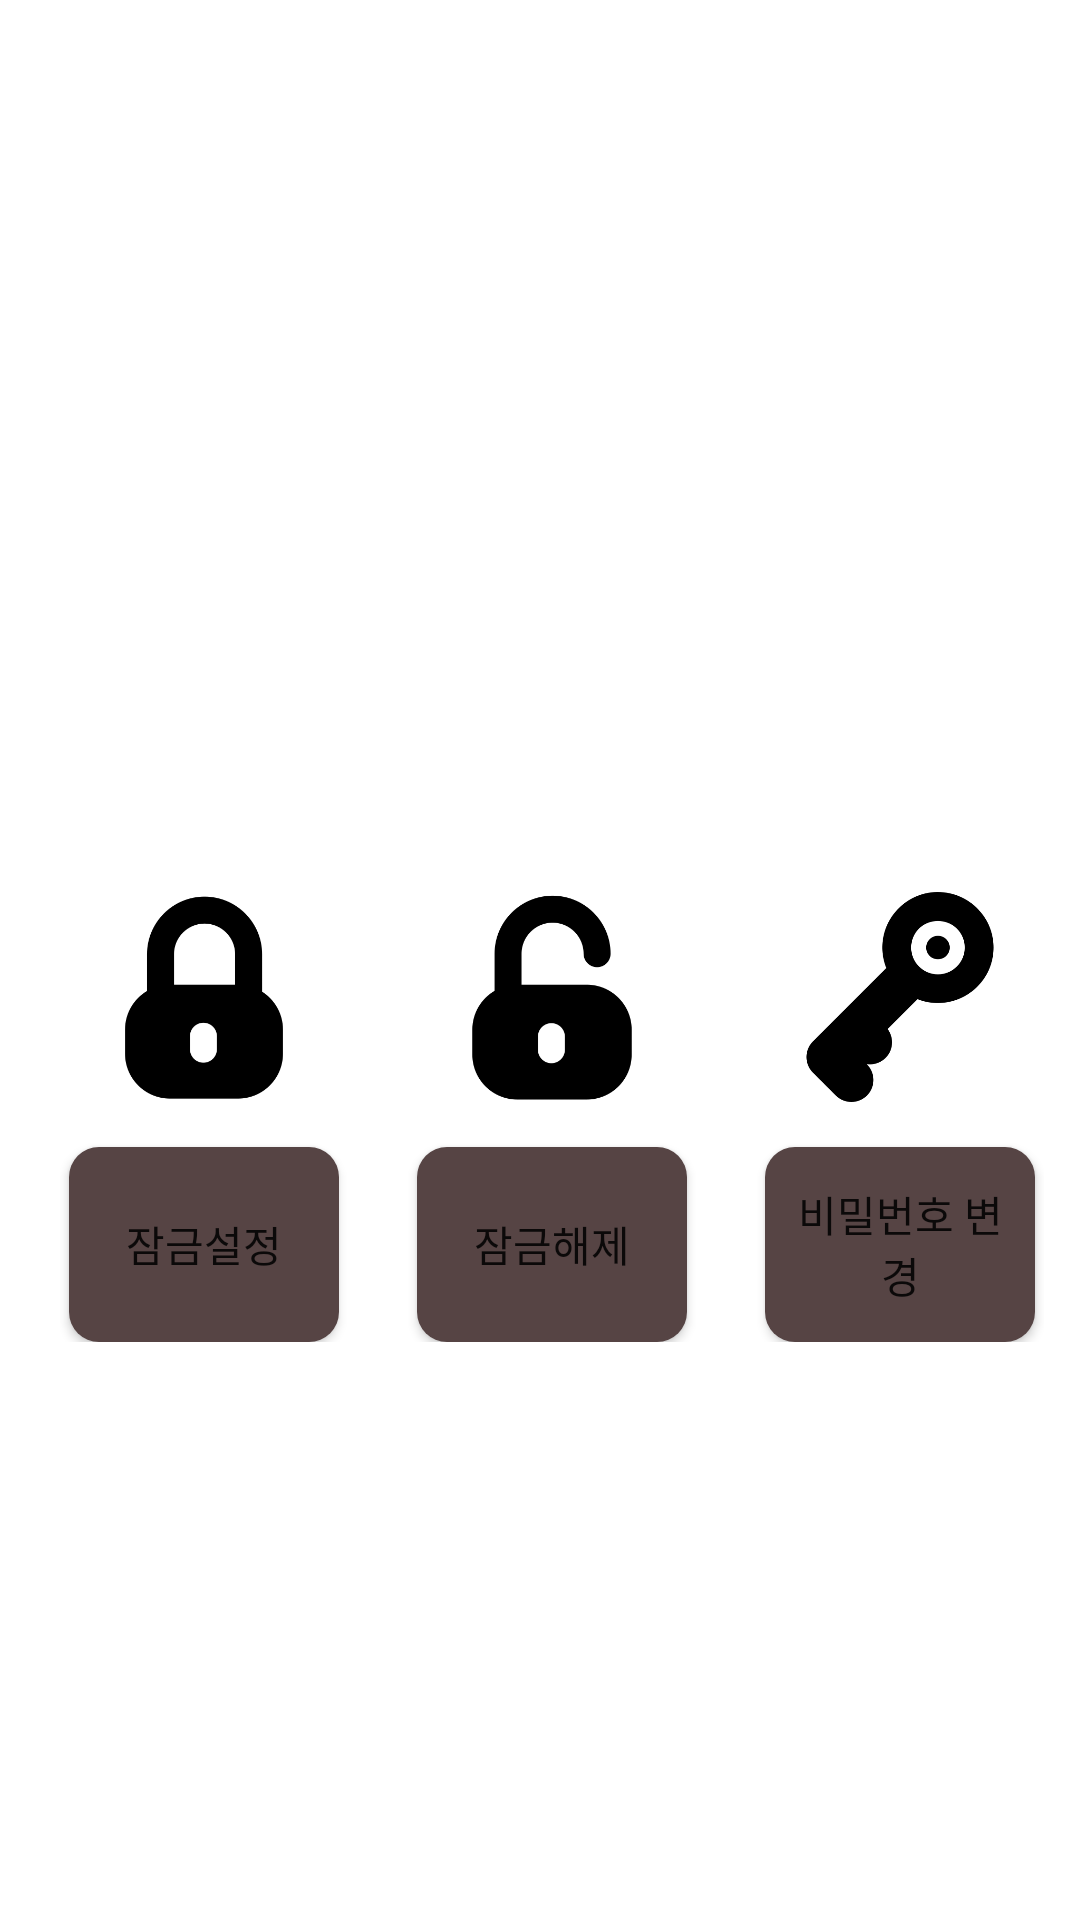

Where icons sit on this 1080×1920 app screen, as (x1, y1, x2, y2):
key: (806, 892, 994, 1102)
locked: (125, 896, 283, 1099)
unlocked: (472, 896, 632, 1100)
